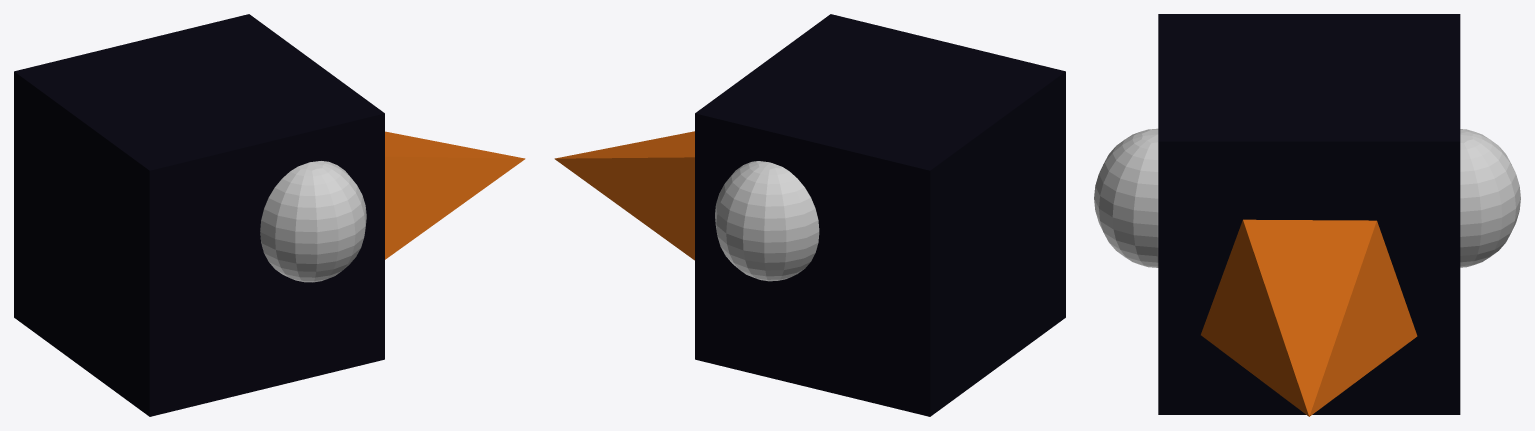
The model's file is Vogelmodel-flying.obj.
3 views of the same model, side by side, from view 1: azimuth 30°, elevation 25°; view 2: azimuth 150°, elevation 25°; view 3: azimuth 270°, elevation 25° (orthographic). The views are drawn at different scales.
Visible parts, largest first — view 1: Cube, Sphere.001, Cone; view 2: Cube, Sphere, Cone; view 3: Cube, Cone, Sphere.001, Sphere.
Boxes of the visible parts, x1=… form: Cube: x1=14, y1=14, x2=384, y2=416; Sphere.001: x1=260, y1=161, x2=366, y2=282; Cone: x1=385, y1=131, x2=525, y2=259; Cube: x1=695, y1=14, x2=1065, y2=416; Sphere: x1=715, y1=161, x2=819, y2=281; Cone: x1=554, y1=131, x2=694, y2=260; Cube: x1=1158, y1=14, x2=1460, y2=414; Cone: x1=1201, y1=219, x2=1417, y2=416; Sphere.001: x1=1094, y1=128, x2=1158, y2=267; Sphere: x1=1460, y1=129, x2=1520, y2=267.
Size of the model in its own units: 0.9439 by 0.5 by 0.7073.
